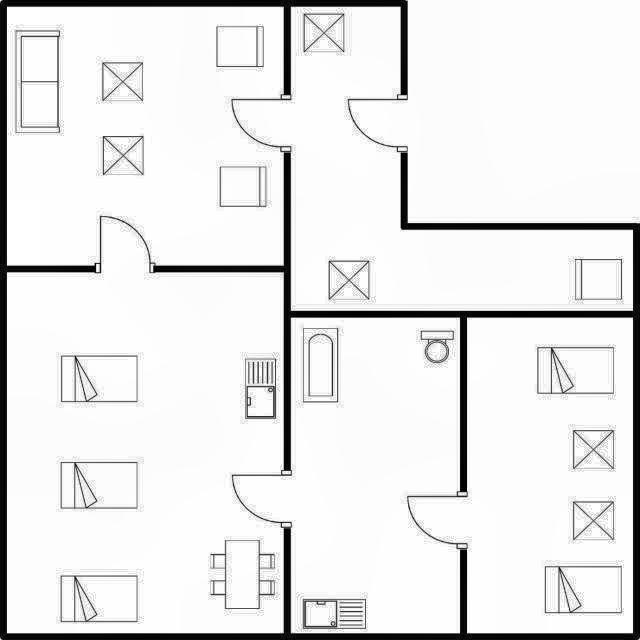room: (291, 7, 633, 311), (7, 272, 284, 633), (7, 7, 284, 266), (291, 318, 460, 633), (467, 317, 633, 634)
